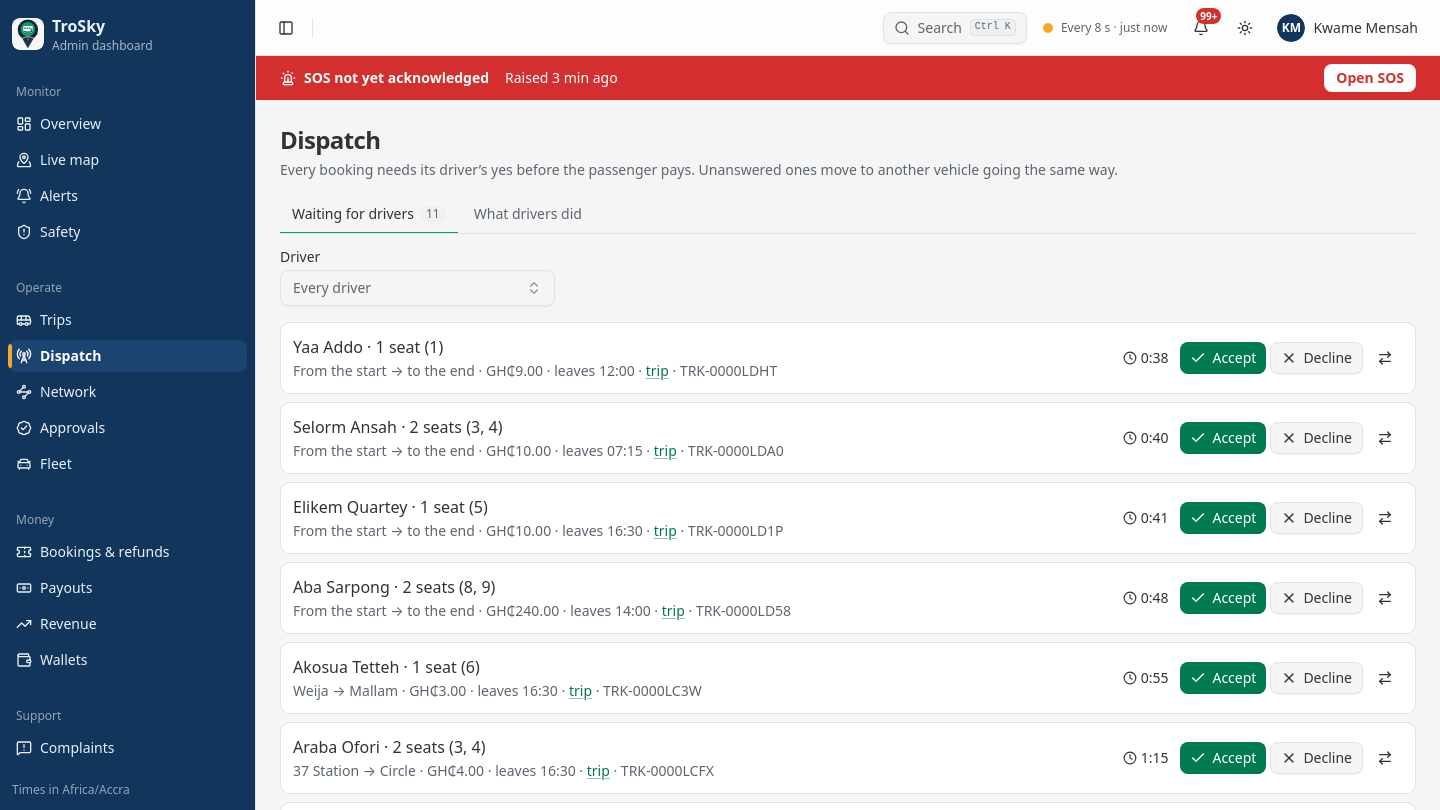
Test: Bookings waiting for drivers › can be moved to another trip on the same route that day
The width and height of the screenshot is (1440, 810).
Click the button named "to another trip": (1385, 358) [1367,342,1403,374]
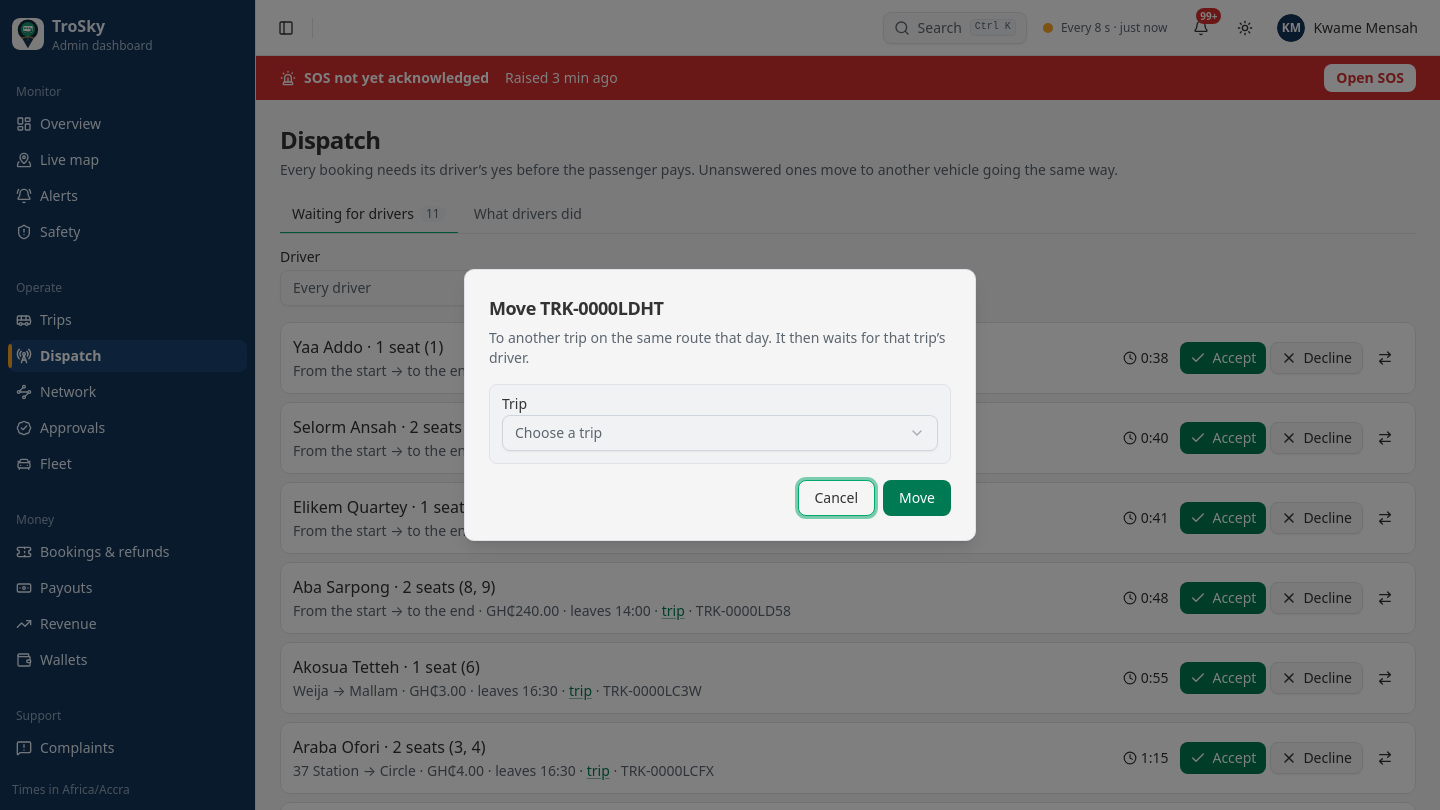
Click the dropdown labelled "trip": (559, 432) [502,415,938,451]
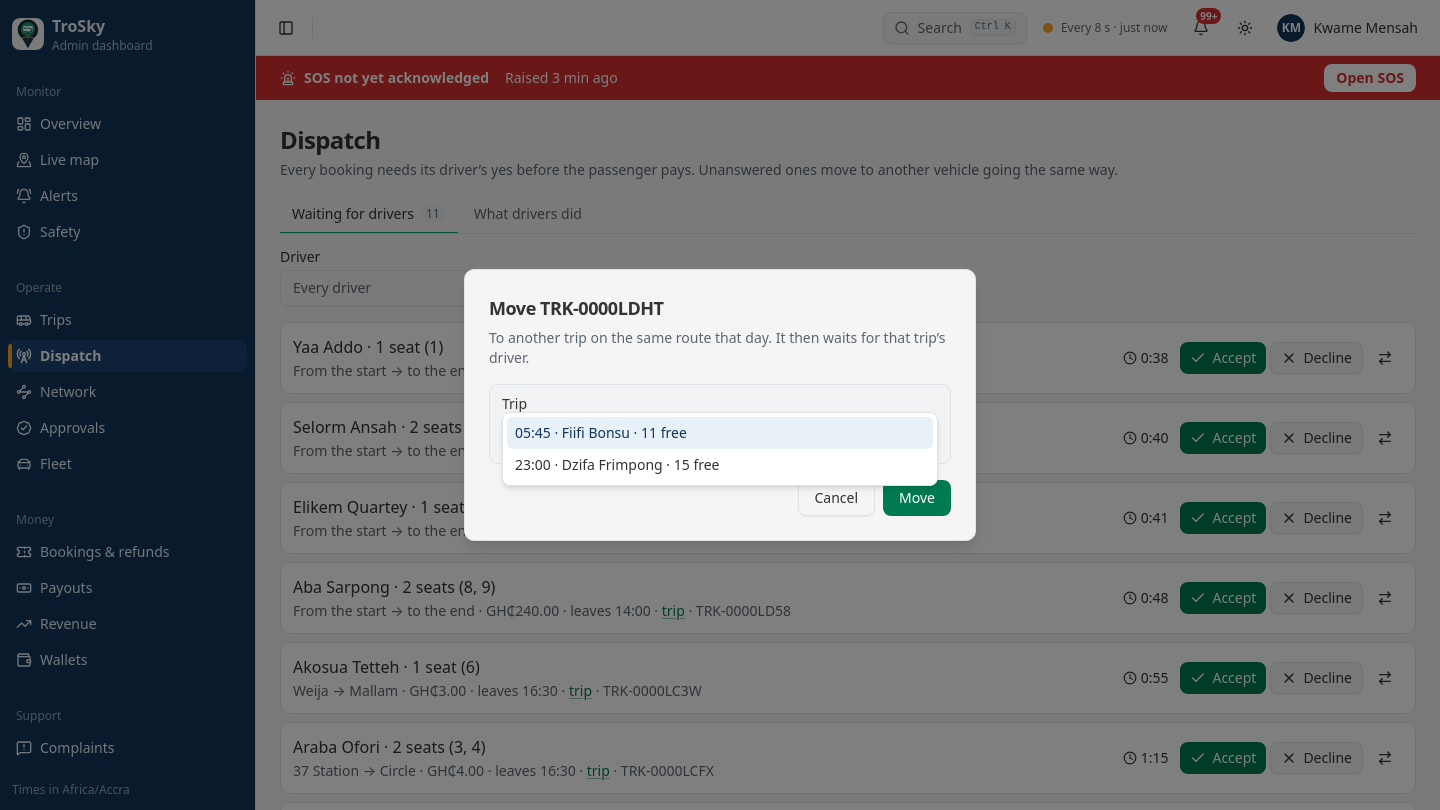
Click the option "23:00 · Dzifa Frimpong · 15 free": (617, 464) [515,455,720,474]
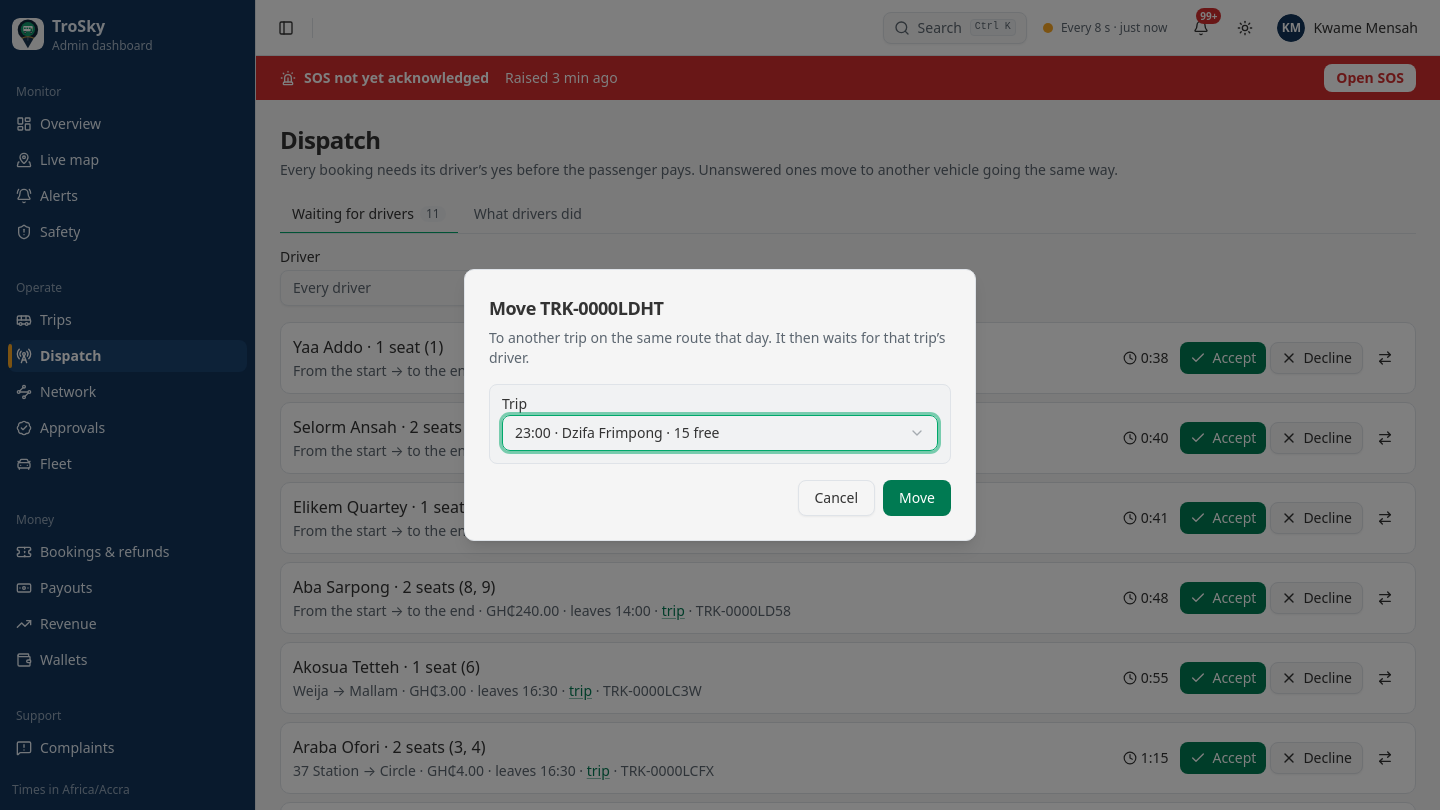
Click the button "Move": (917, 498) [883,480,951,516]
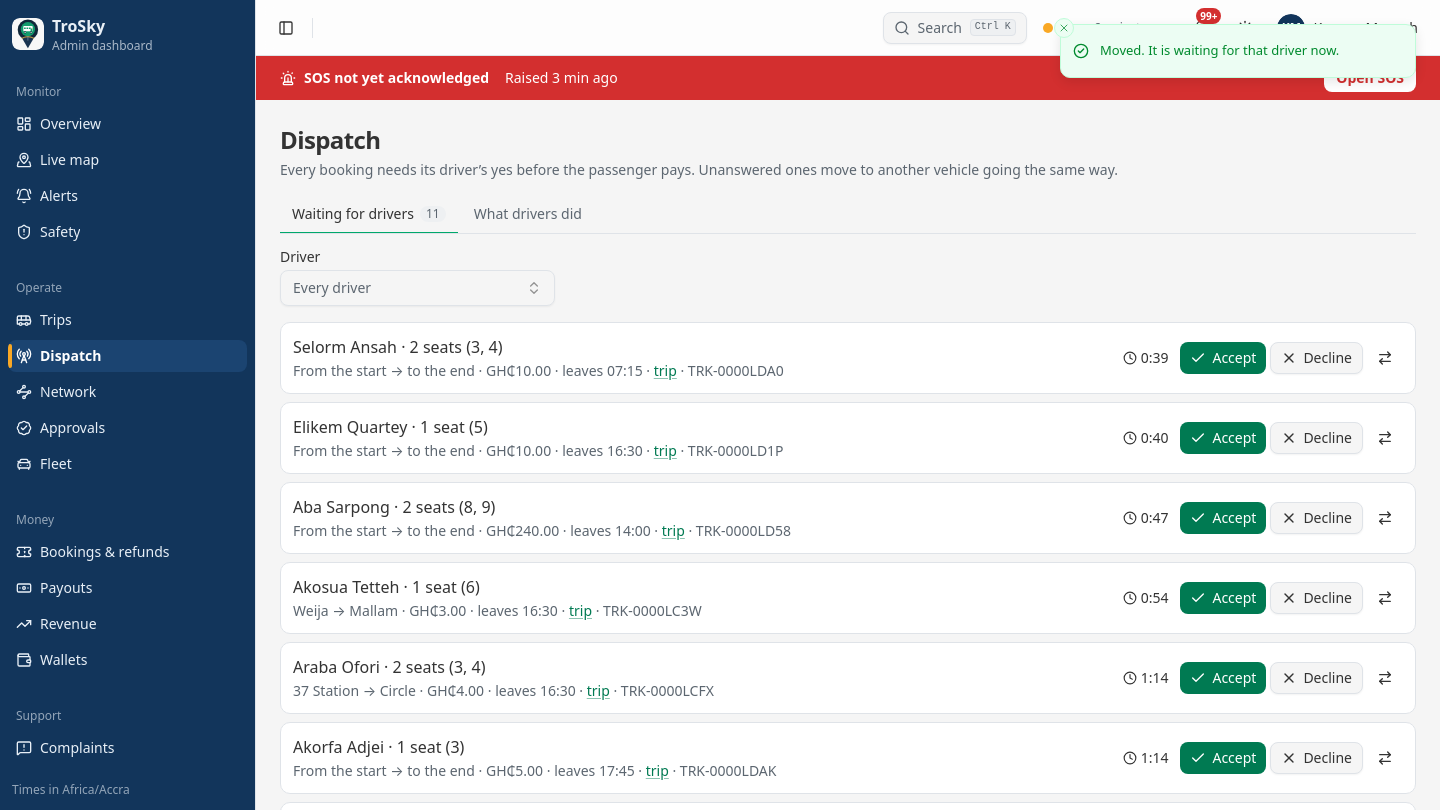
Expected: the text "Moved. It is waiting for that driver now." is shown, [1100,41,1339,60]
